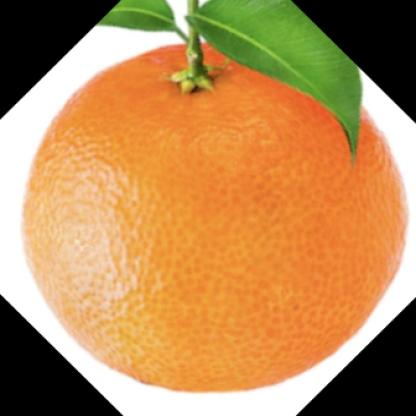fresh: (23, 37, 411, 393)
